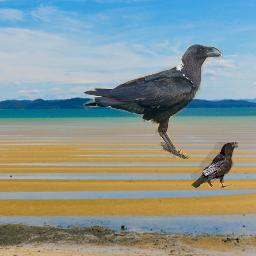Crow: (83, 44, 223, 159), (191, 142, 238, 188)
